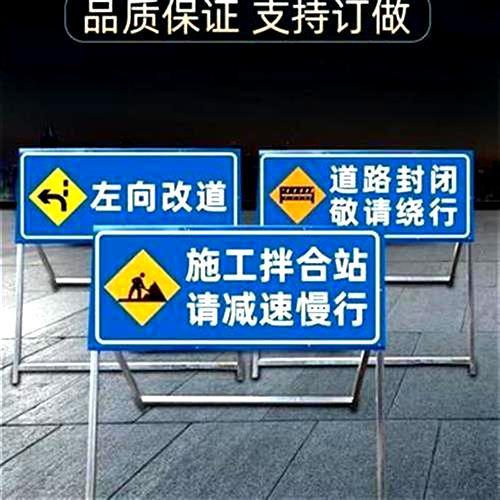sign: (87, 229, 387, 347), (19, 150, 240, 243), (259, 151, 475, 238)
